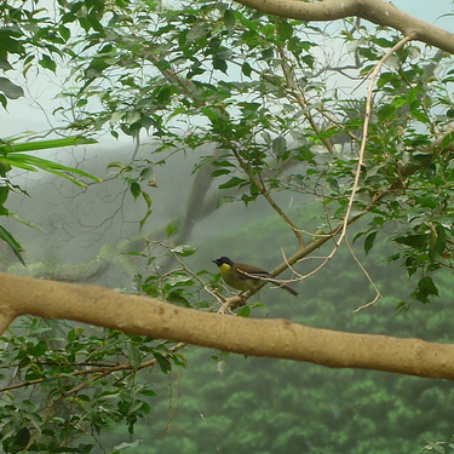animal: (209, 251, 297, 304)
vegetation: (1, 1, 454, 454)
